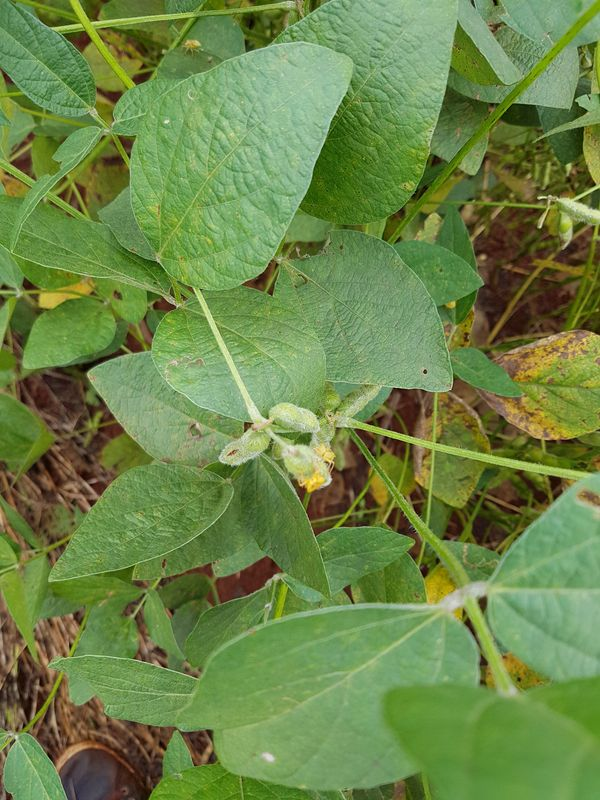Euschistus_heros_ninfa: (294, 466, 330, 498), (310, 441, 339, 471), (179, 34, 206, 59)
